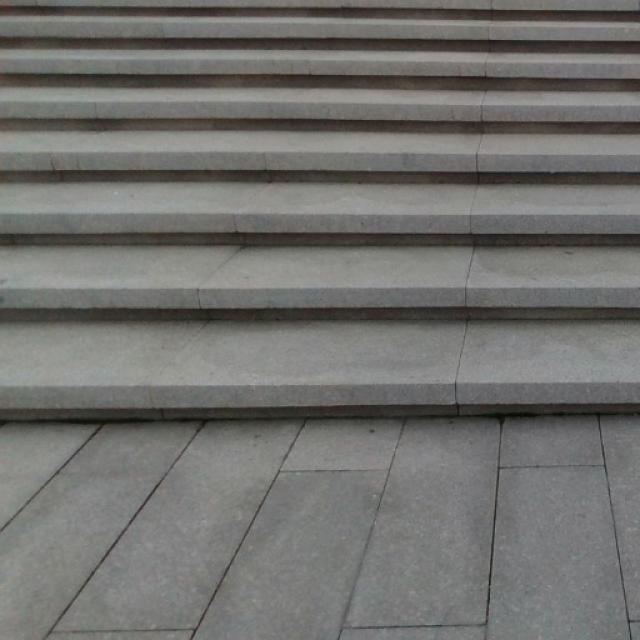Stairs: (0, 0, 639, 419)
